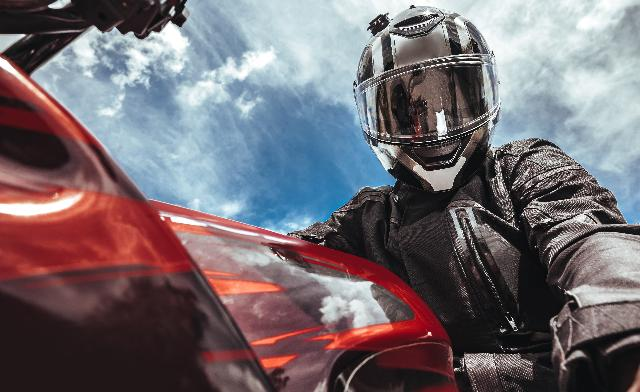helm: (354, 4, 505, 196)
